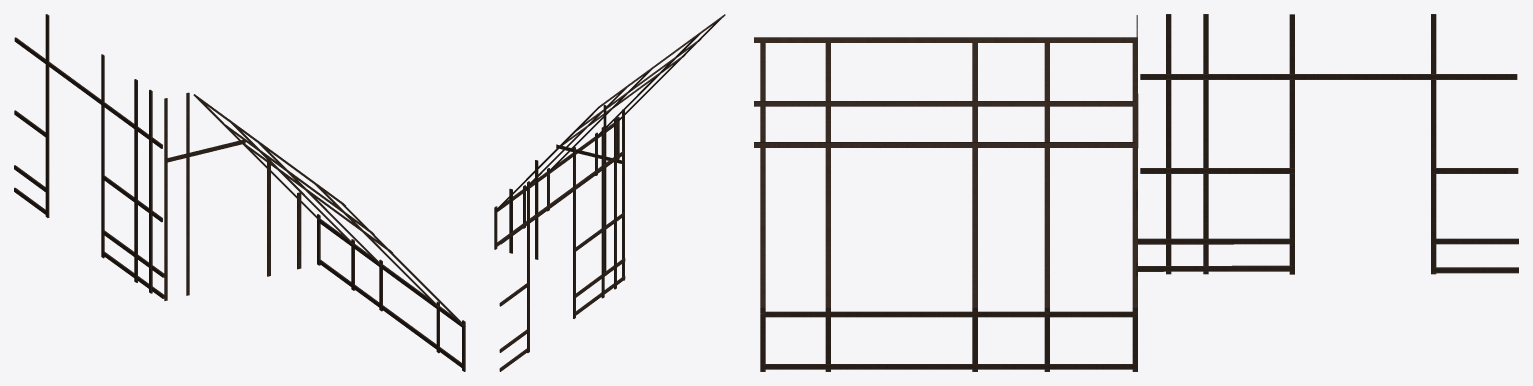
The model's file is Extra wall 1.fbx.
3 views of the same model, side by side, from view 1: azimuth 30°, elevation 25°; view 2: azimuth 150°, elevation 25°; view 3: azimuth 270°, elevation 25° (orthographic). The views are drawn at different scales.
Visible parts, largest first — view 1: Extra detail wood.004; view 2: Extra detail wood.004; view 3: Extra detail wood.004.
Boxes of the visible parts, x1,y1,x2,y2 form: Extra detail wood.004: [14, 14, 465, 371]; Extra detail wood.004: [494, 14, 725, 371]; Extra detail wood.004: [754, 14, 1518, 371].
Size of the model in its own units: 378 by 468 by 1244.
Materials: 1 (1 with a texture image).
